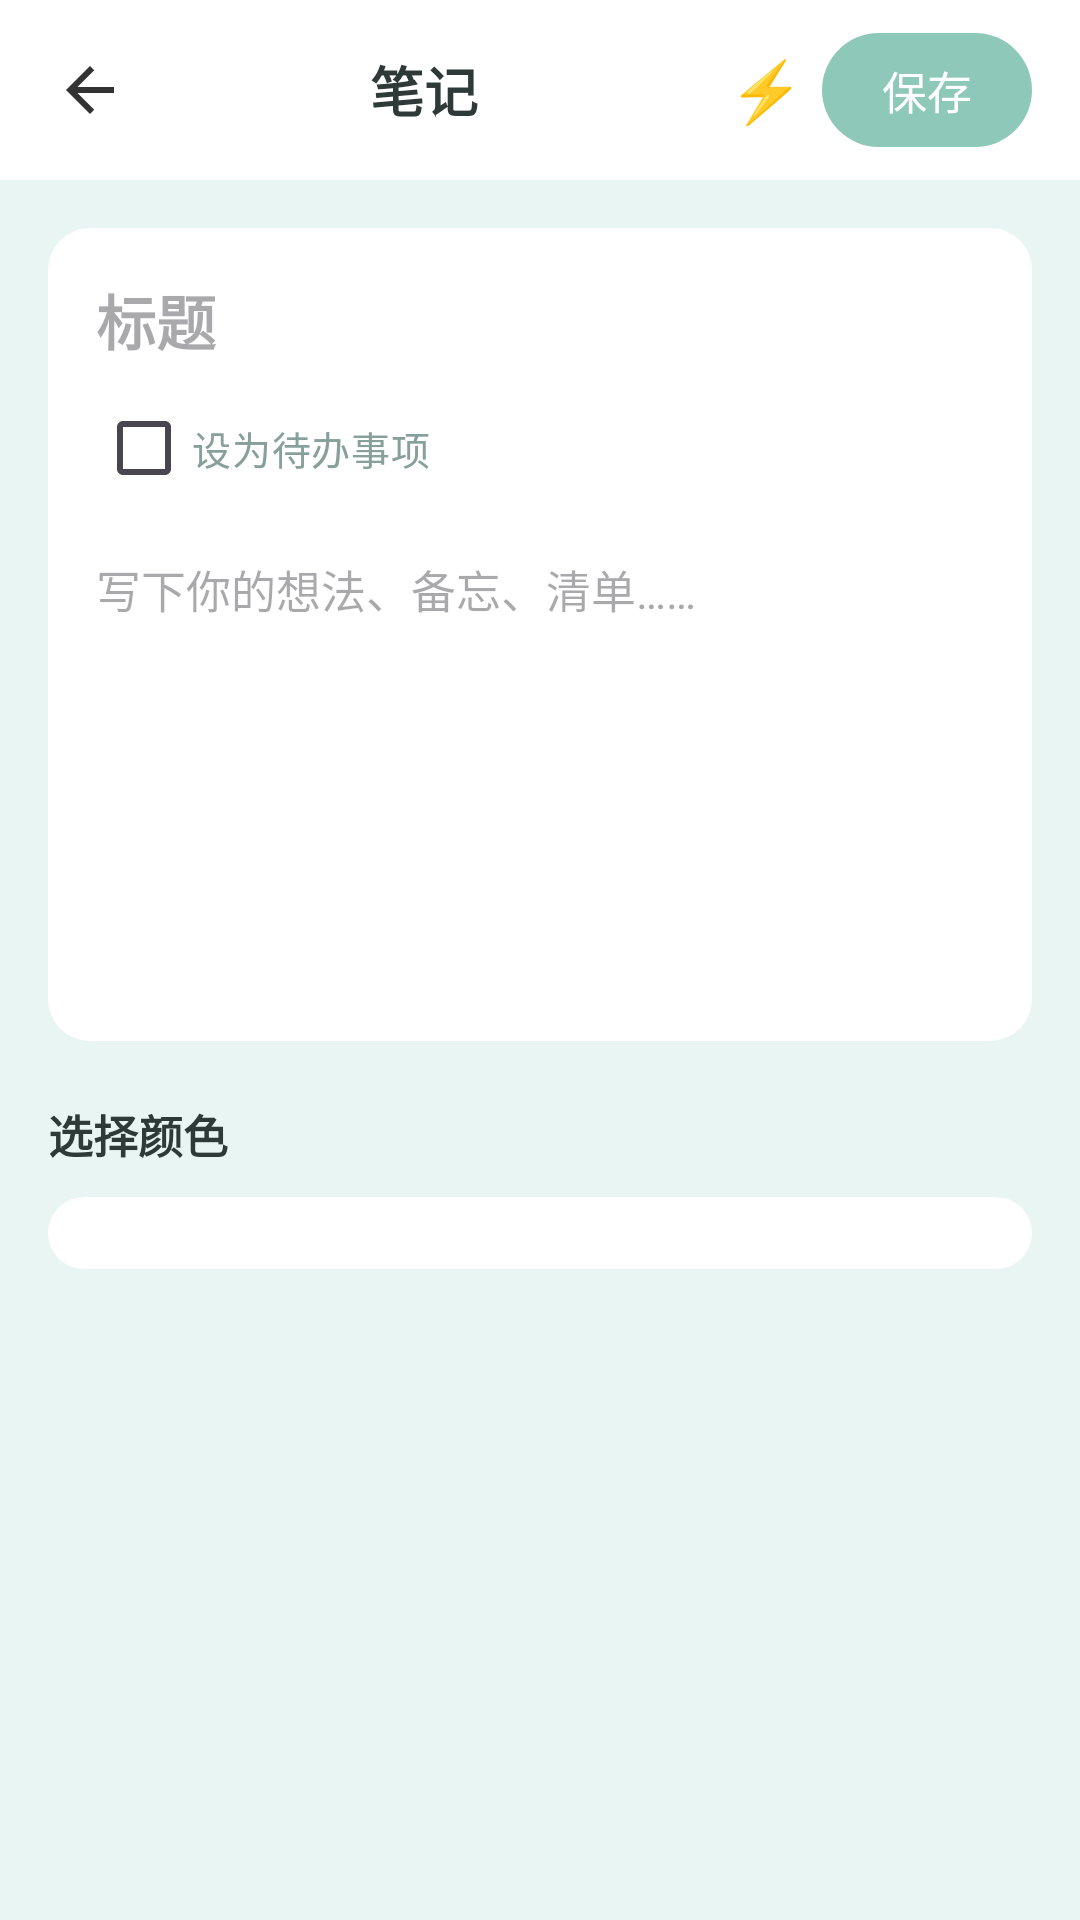

Where icons sit on this 1080w x 1920h app screen, as box=[x1, y1, x2, y2]:
返回: box=[66, 66, 114, 114]
